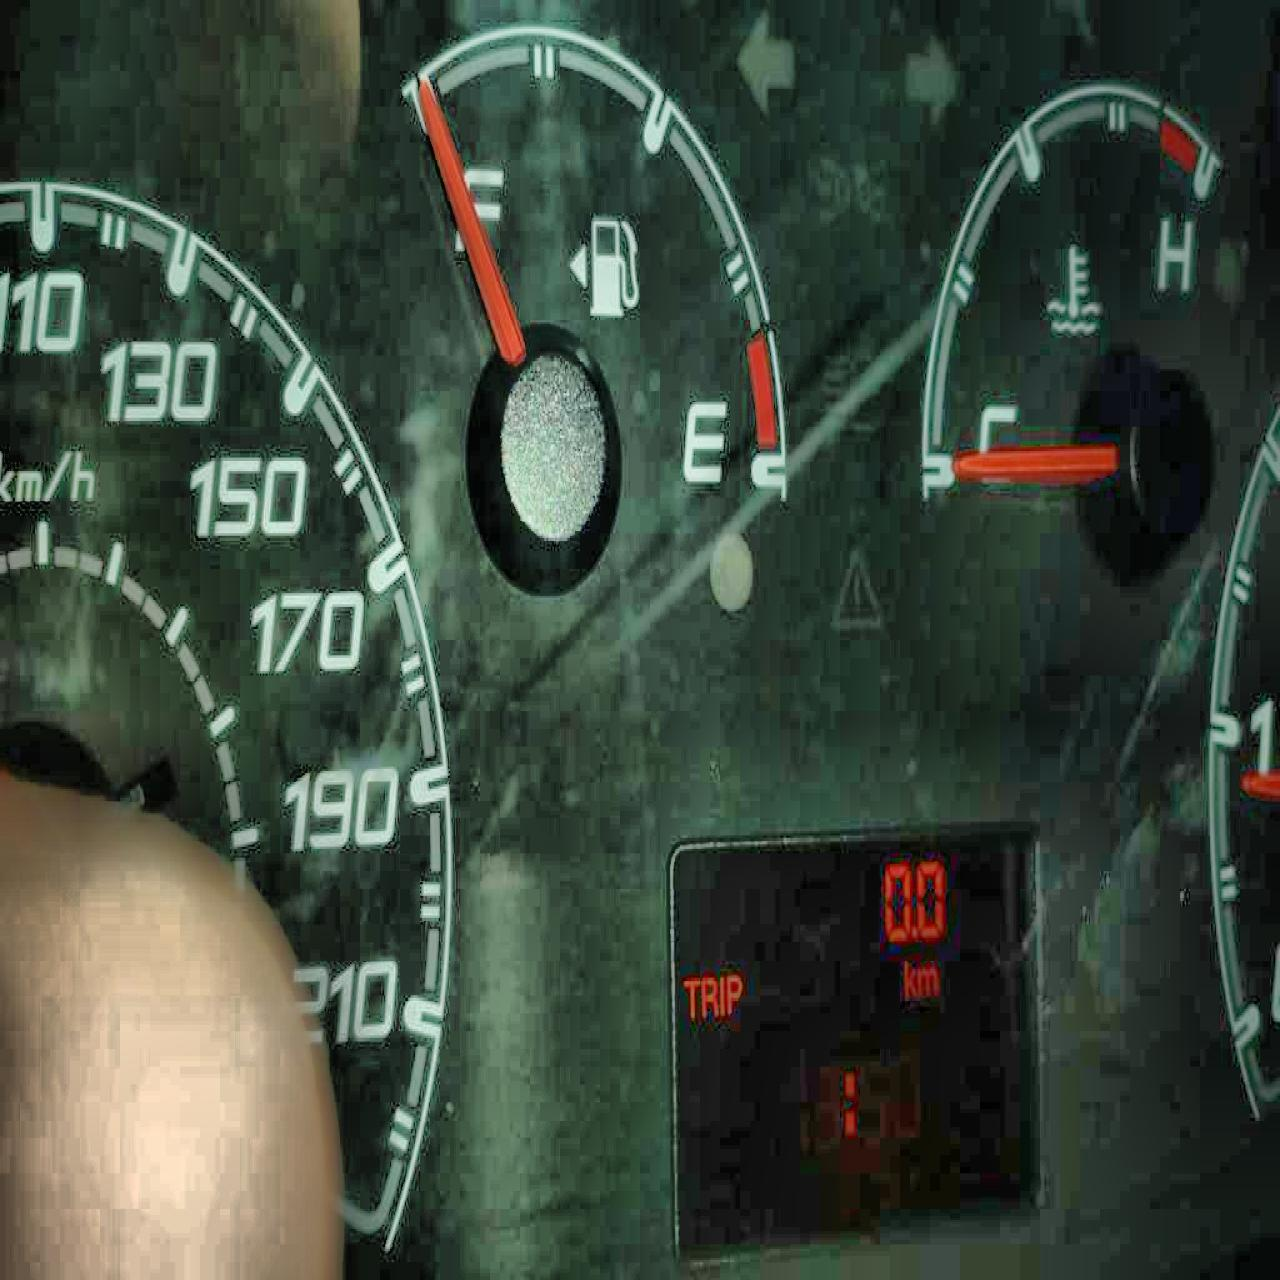-: (910, 920, 916, 940)
0: (916, 858, 945, 936), (884, 862, 910, 940)
X: (839, 1060, 859, 1142), (682, 971, 700, 1020), (916, 964, 938, 1000), (726, 971, 742, 1013), (901, 953, 915, 1000), (702, 973, 716, 1018), (719, 971, 725, 1018)
odometer: (664, 811, 1054, 1271)
